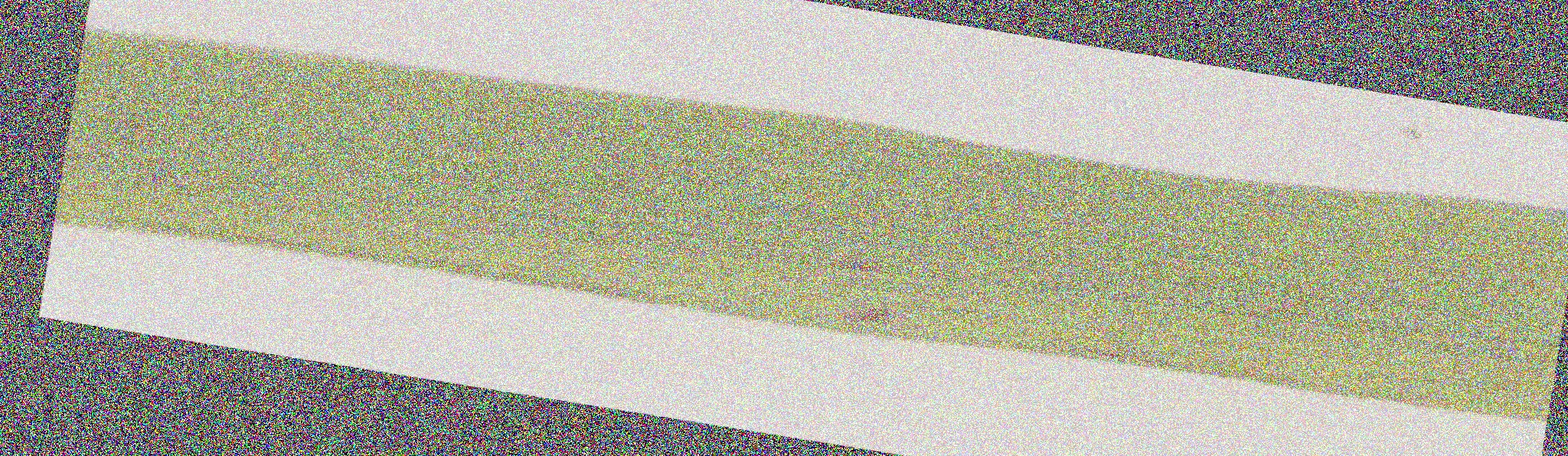Bacterial_Leaf_Blight: (822, 247, 922, 327), (123, 156, 179, 192), (546, 123, 612, 148), (1067, 345, 1141, 358), (493, 131, 530, 153)
